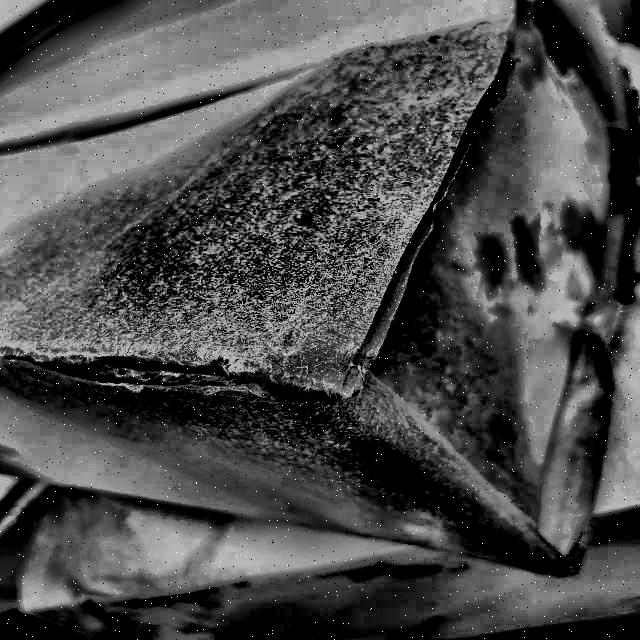box: (1, 0, 640, 583)
wet: (1, 3, 577, 573)
